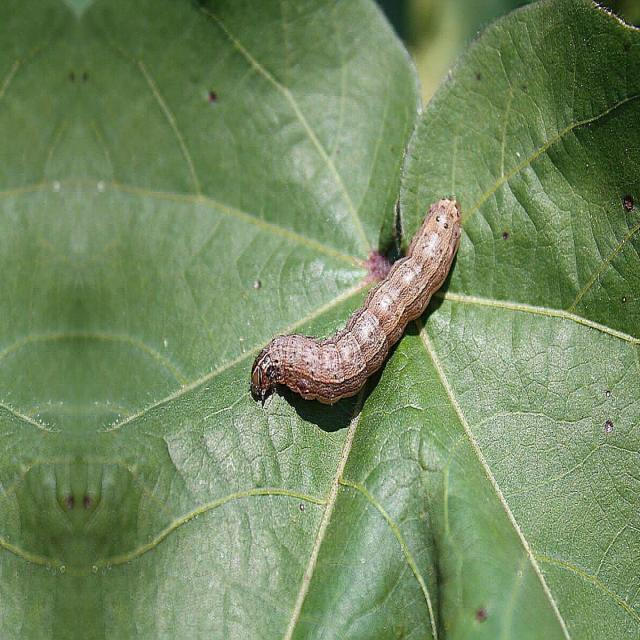Armyworm: (207, 187, 495, 439)
